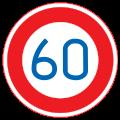Speed Limit -60-: (29, 35, 92, 83)
